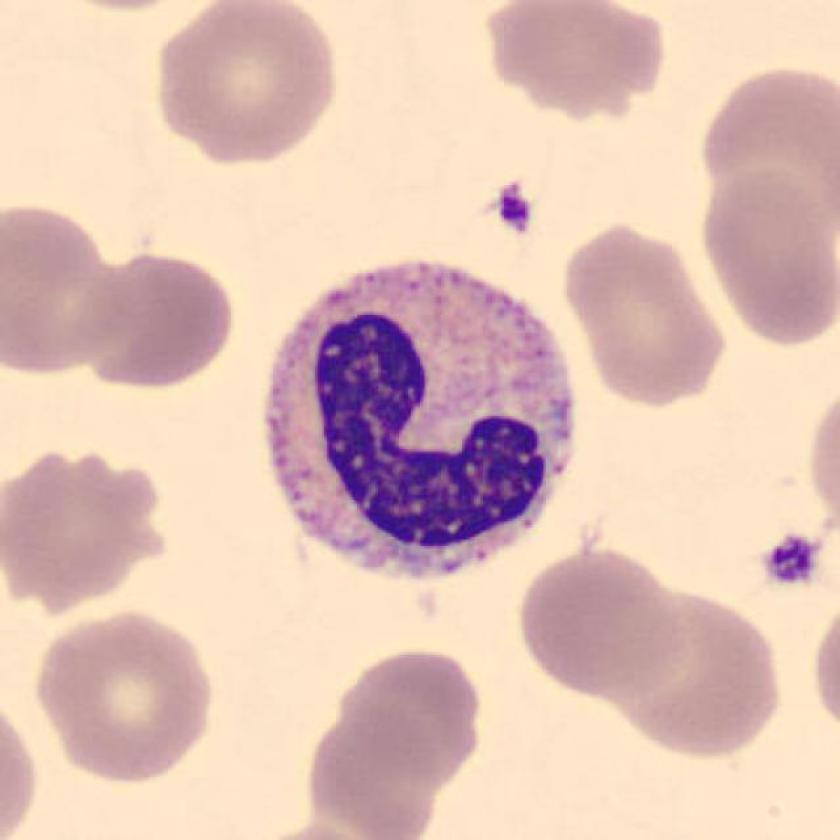neutrophil: (257, 257, 580, 588)
